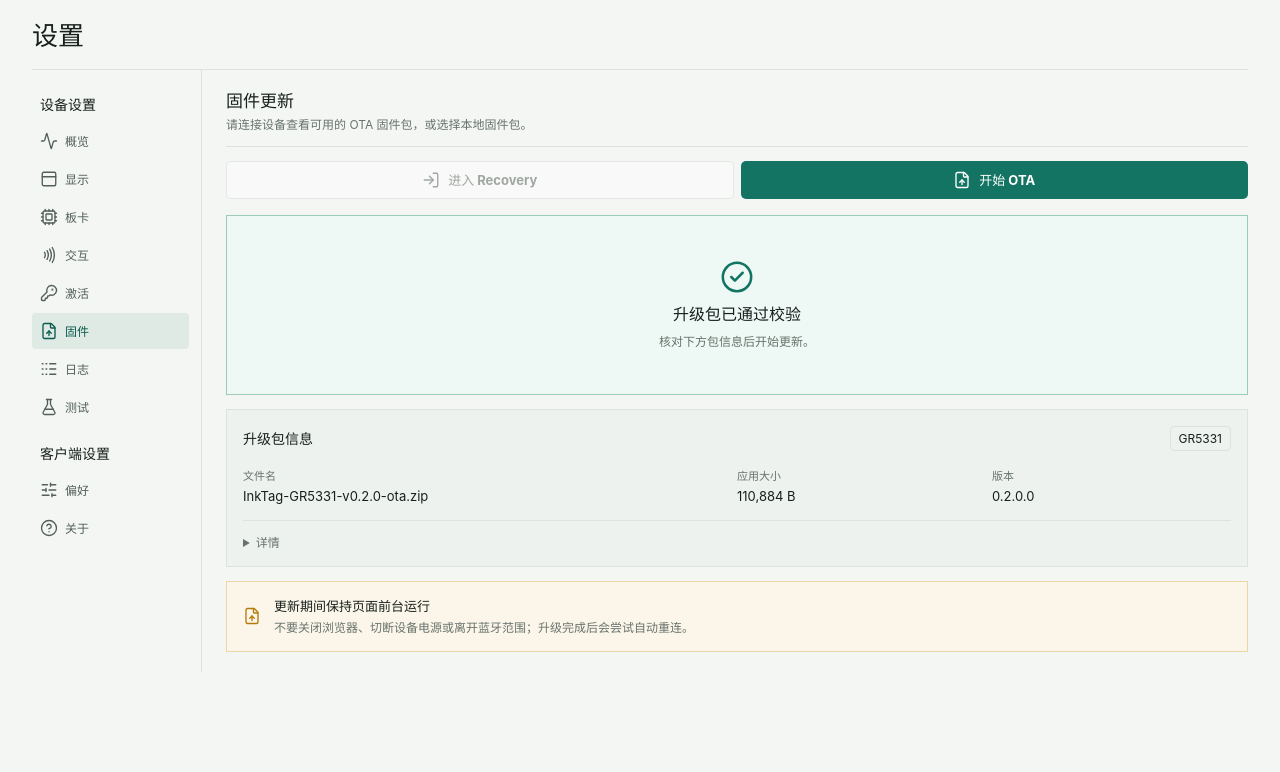
Test: shows a red failure after 100% for gr without retrying or changing package metadata
Earlier steps of the test are not shown.
Click the button "开始 OTA": (994, 180) [740,161,1248,199]
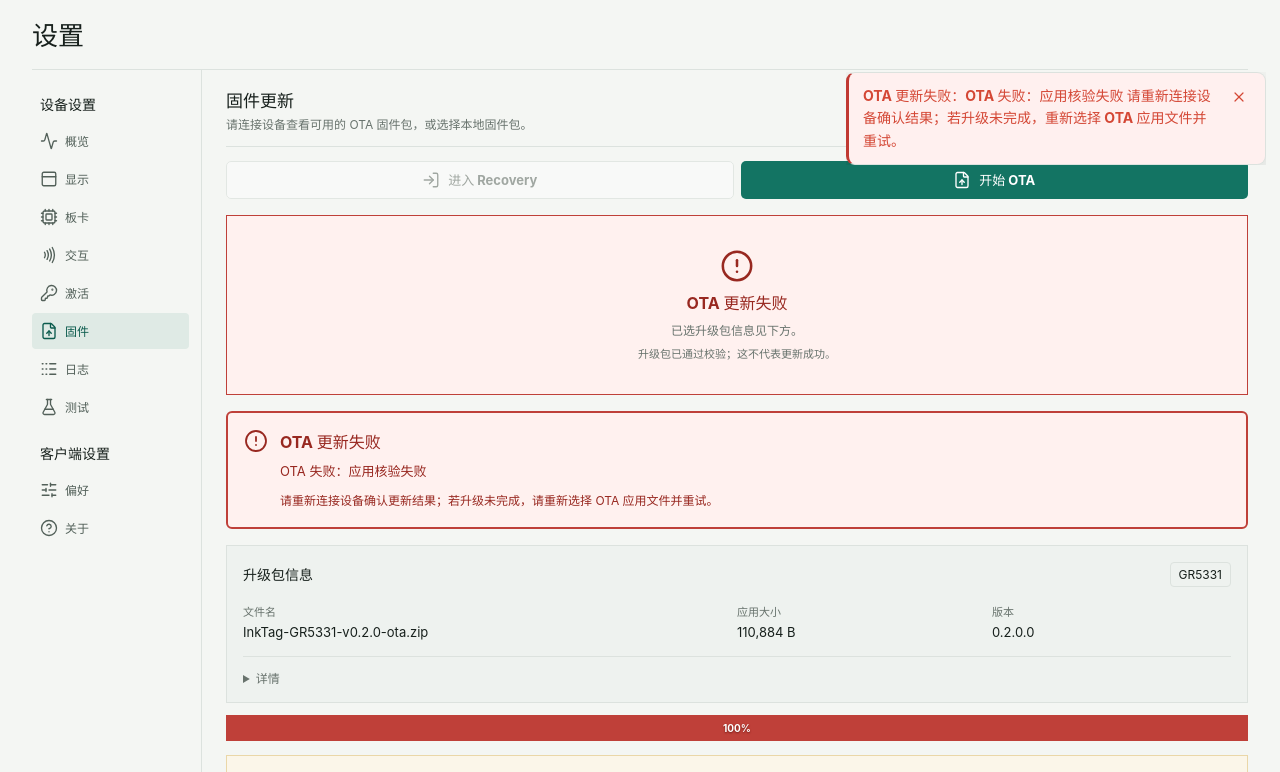
expect the message with class "ota-failure" shows "应用核验失败": met, box [280,463,426,479]
expect the progress indicator with class "failed" reads "100%": met, box [226,715,1248,741]
expect the file field with class "failed" that starts with "OTA 更新失败" is shown: met, box [226,215,1248,395]
